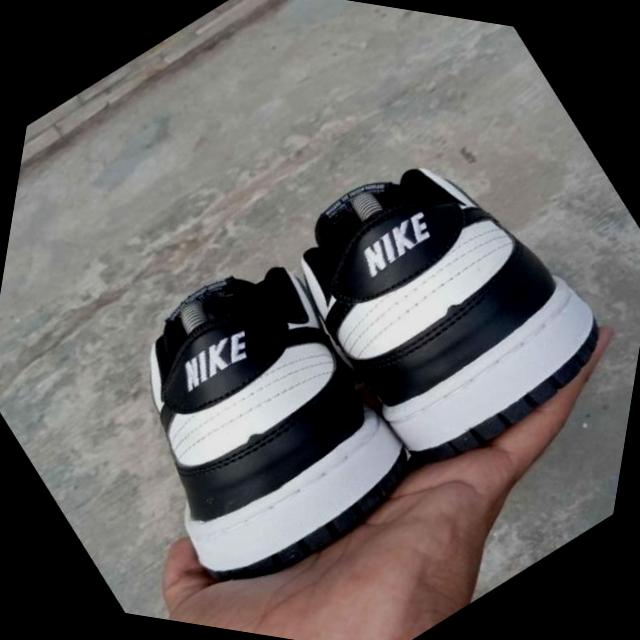nike_fake_jordan: (37, 205, 470, 640), (230, 81, 640, 519)
